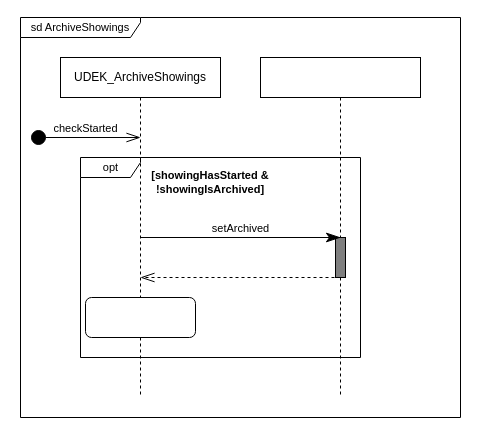
The diagram is 478 pixels wide and 435 high, and some of its shapes have lost their labels. Each missing label, with the centre of its shape:
Showing: point (340, 227)
showingHasStarted & showingIsArchived: point (140, 317)
